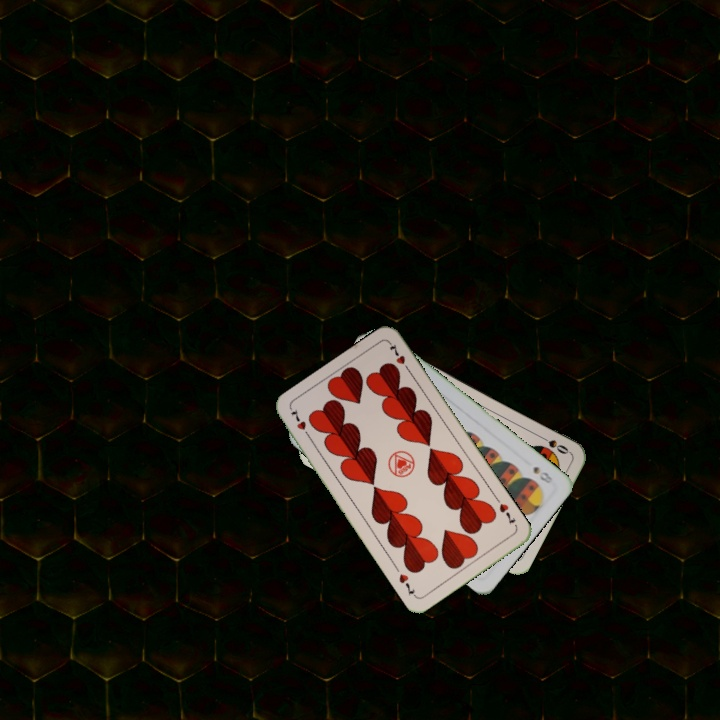H7: (287, 405, 314, 442), (495, 499, 518, 527)
S8: (529, 462, 555, 486)
SO: (535, 431, 572, 457)
